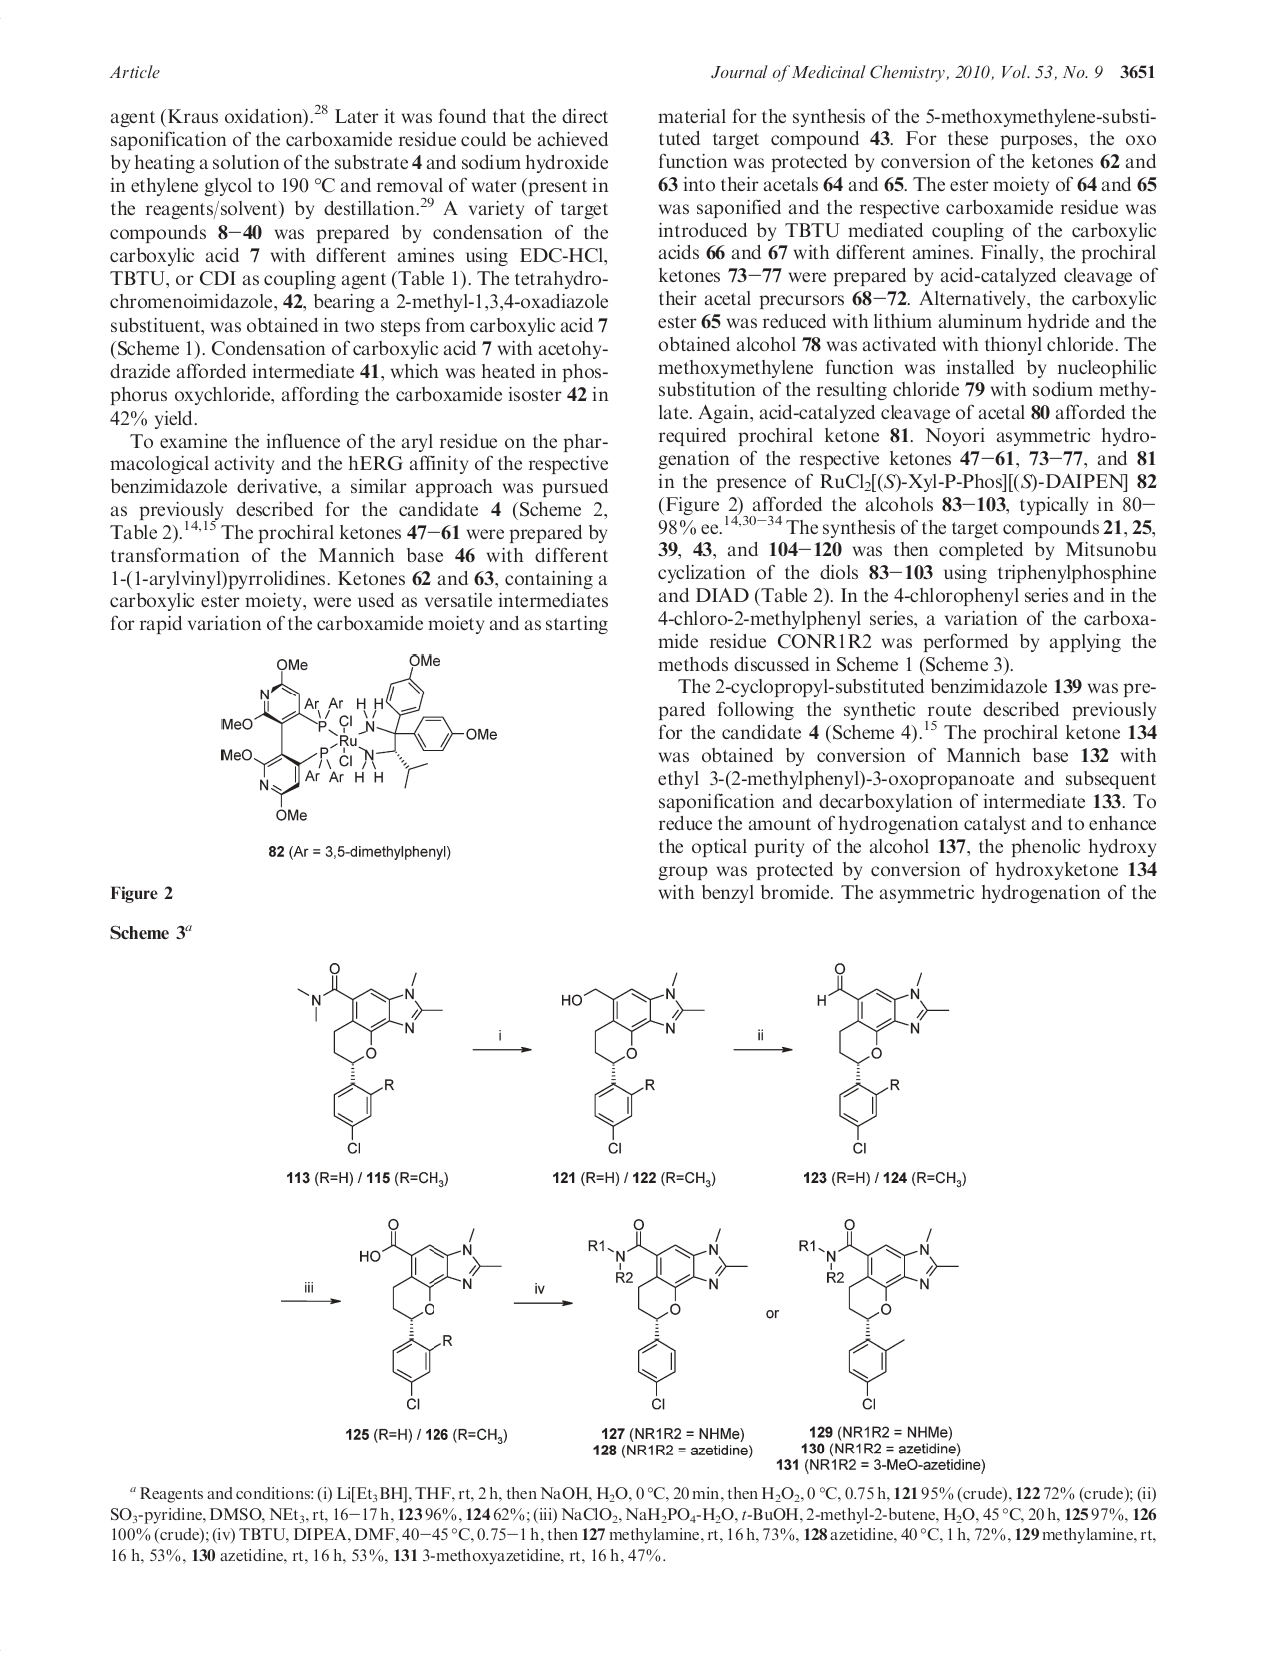exist_molecular: (211, 649, 500, 826), (551, 954, 711, 1161), (586, 1214, 753, 1411), (286, 954, 442, 1160), (351, 1212, 505, 1416), (799, 1218, 961, 1412), (809, 958, 953, 1156)
